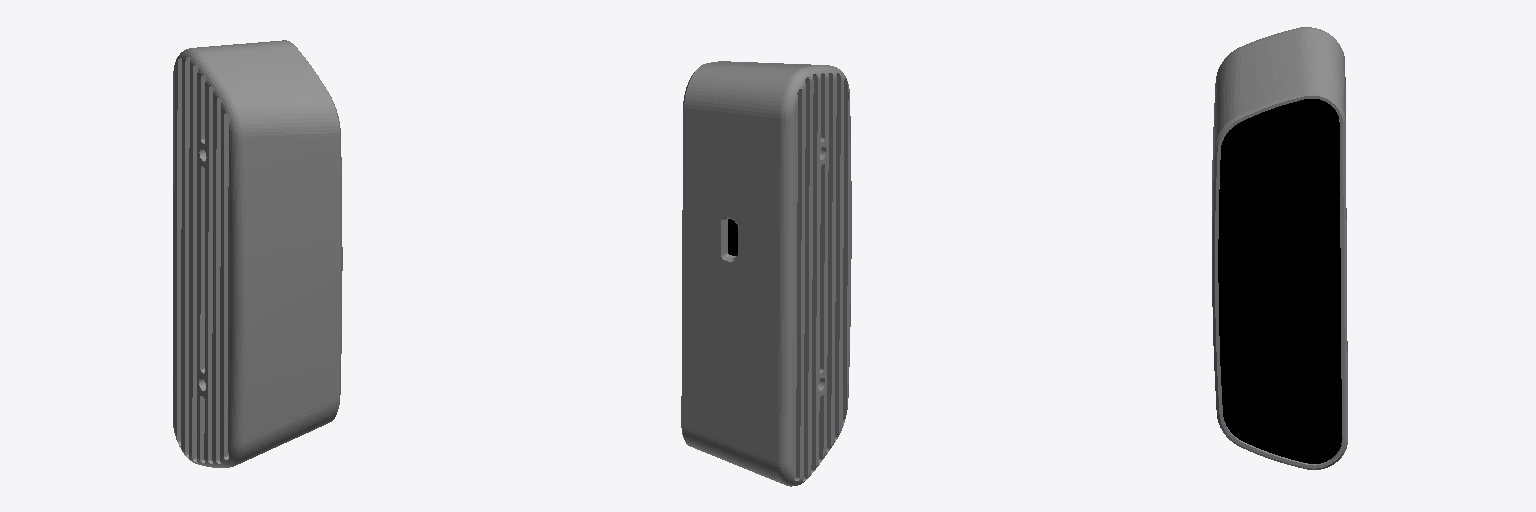
The model's file is dabai.obj.
3 renders of one model, left to right at view 1: azimuth 30°, elevation 25°; view 2: azimuth 150°, elevation 25°; view 3: azimuth 270°, elevation 25°, orthographic.
Parts seen in each view (by area): view 1: link6; view 2: link6; view 3: link6.
Boxes of the visible parts, box(x1,y1,x2,y2) form: link6: box(173, 40, 342, 467); link6: box(681, 61, 851, 486); link6: box(1212, 27, 1347, 469).
Size of the model in its own units: 0.0224 by 0.0813 by 0.0244.